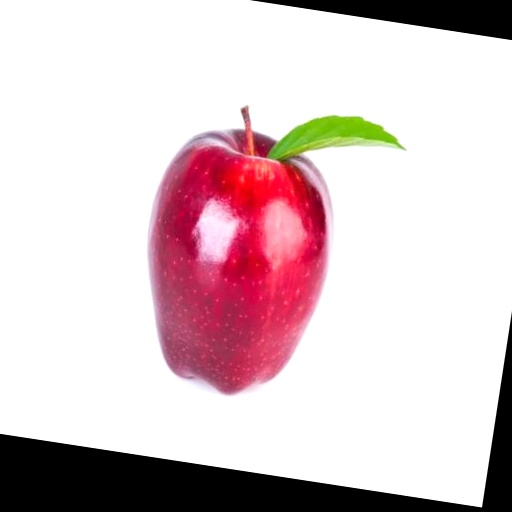fruit: (147, 114, 332, 393)
